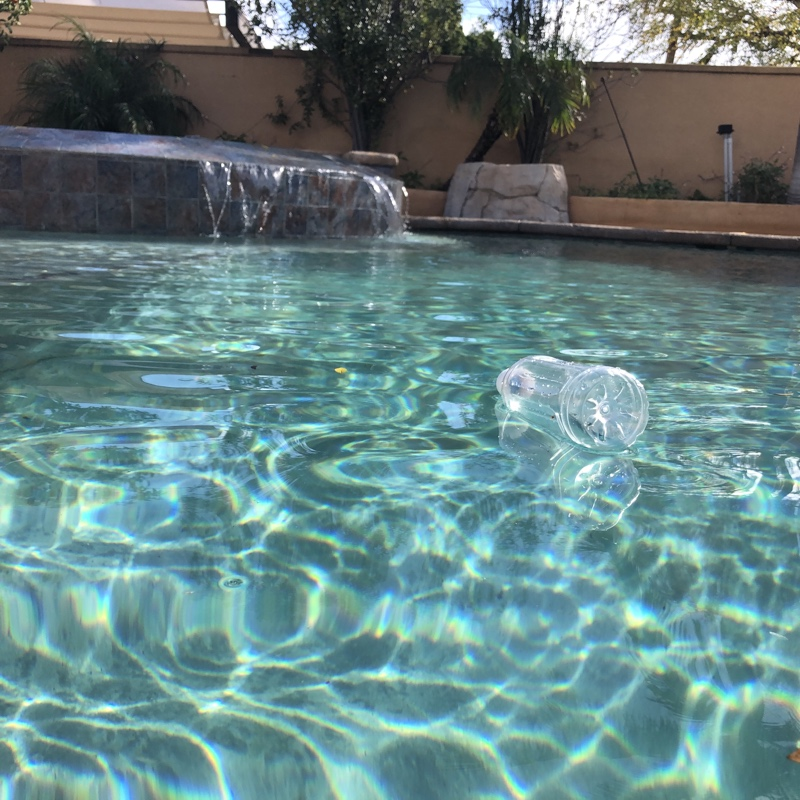Plastic Bottle: (489, 347, 650, 456)
